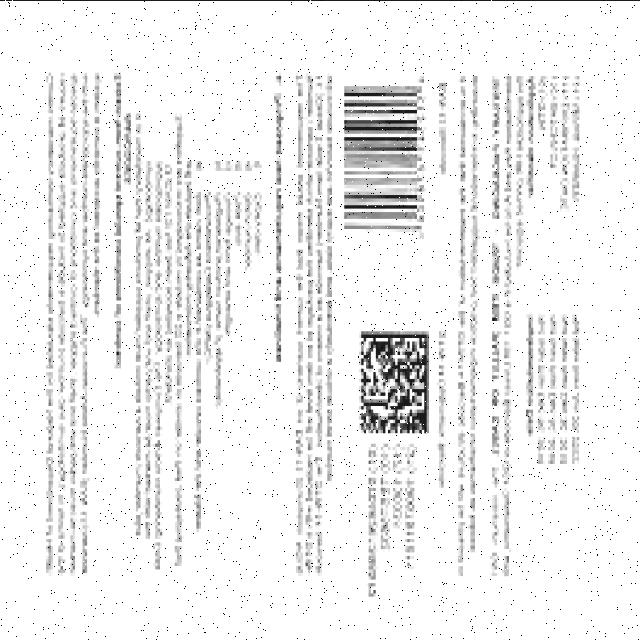datamatrix: (351, 320, 434, 443)
